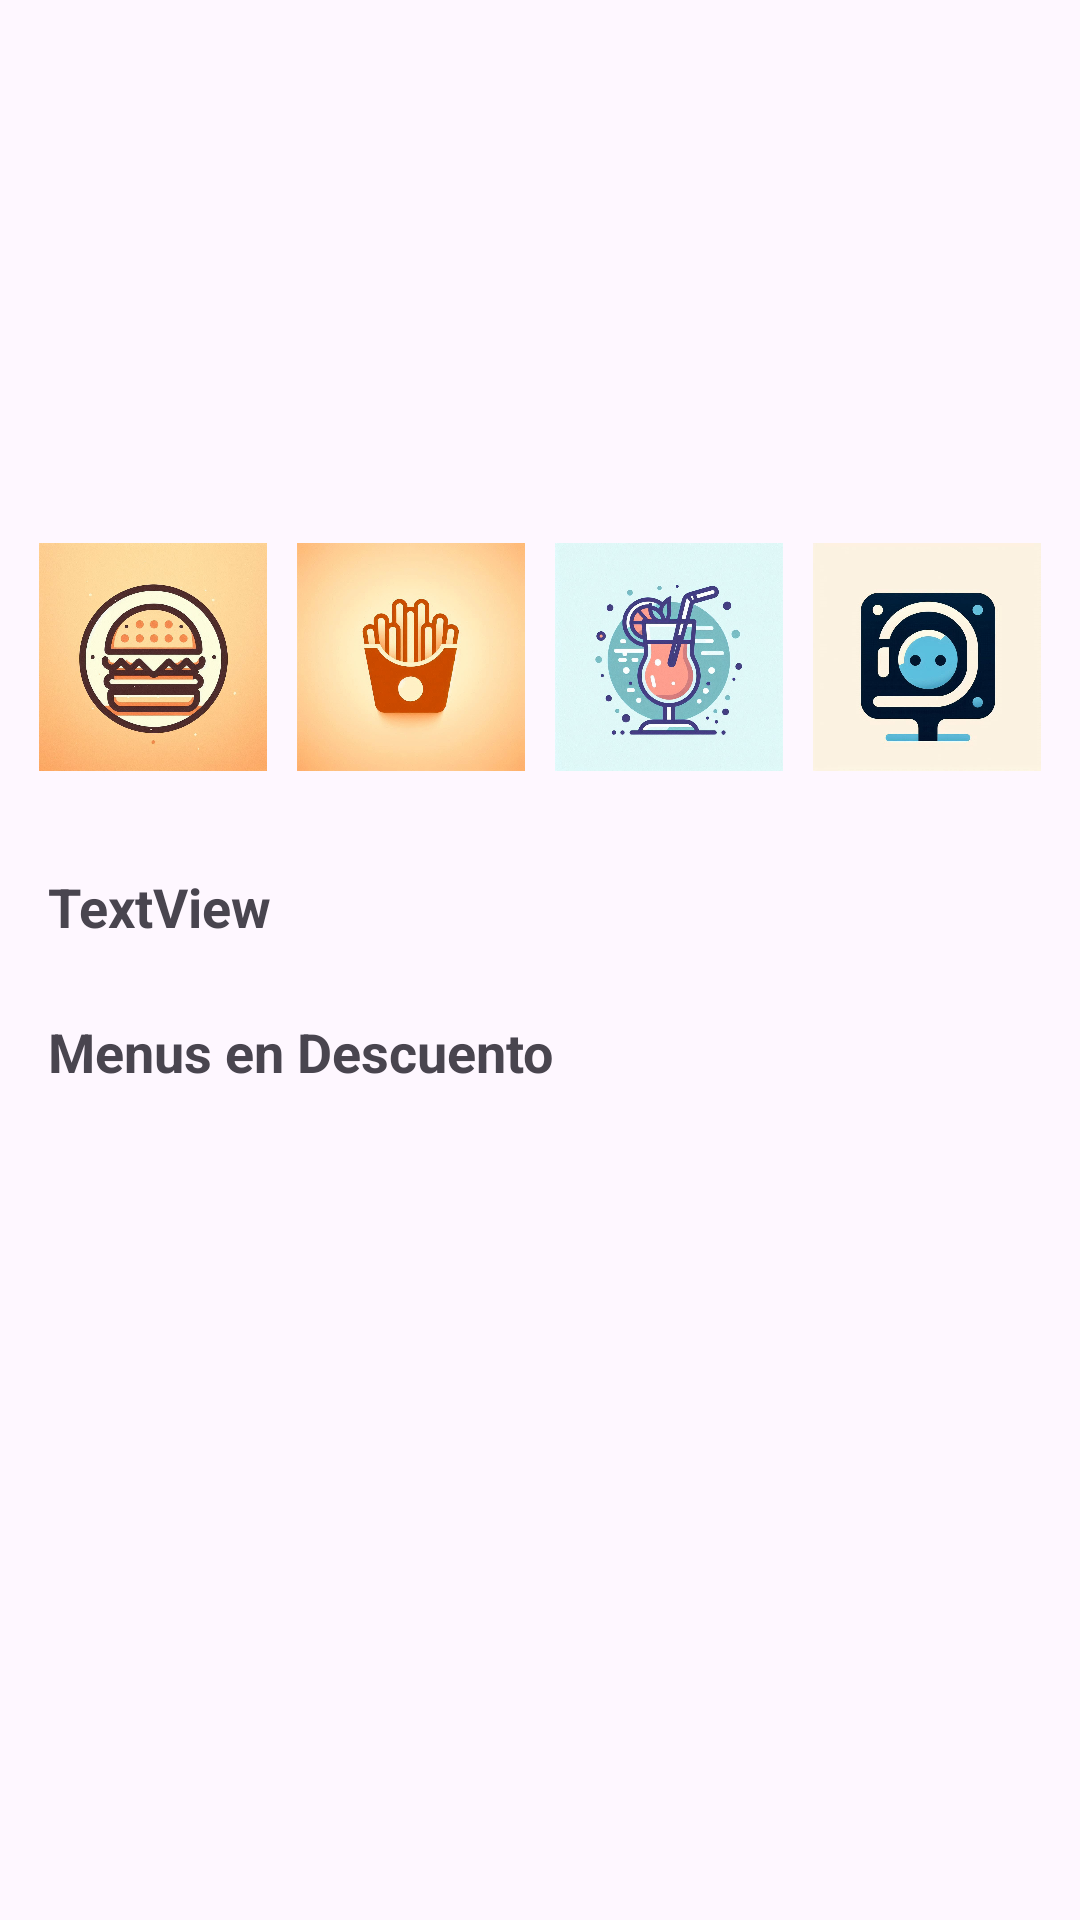

Icon bounding boxes for this 1080x1920 phone screenshot, format [left=x1, top=y1, right=x2, bottom=y2]:
bebidas: [left=555, top=543, right=783, bottom=771]
hambur: [left=39, top=543, right=267, bottom=771]
papas: [left=297, top=543, right=525, bottom=771]
